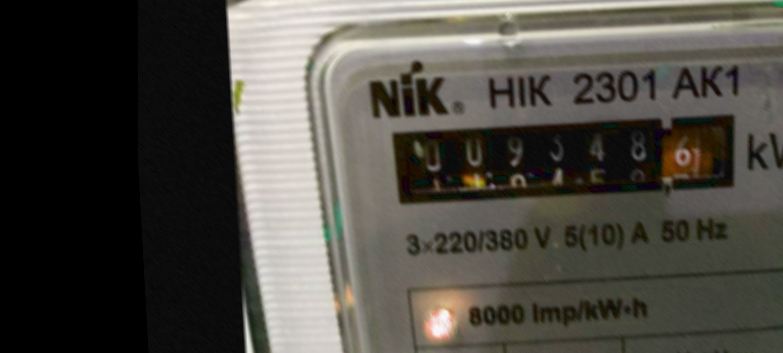0: (461, 133, 484, 170), (420, 137, 442, 173)
3: (543, 129, 567, 162)
4: (583, 127, 606, 165)
6: (670, 132, 694, 167)
8: (626, 127, 648, 162)
9: (504, 132, 524, 167)
screen: (367, 98, 757, 221)
